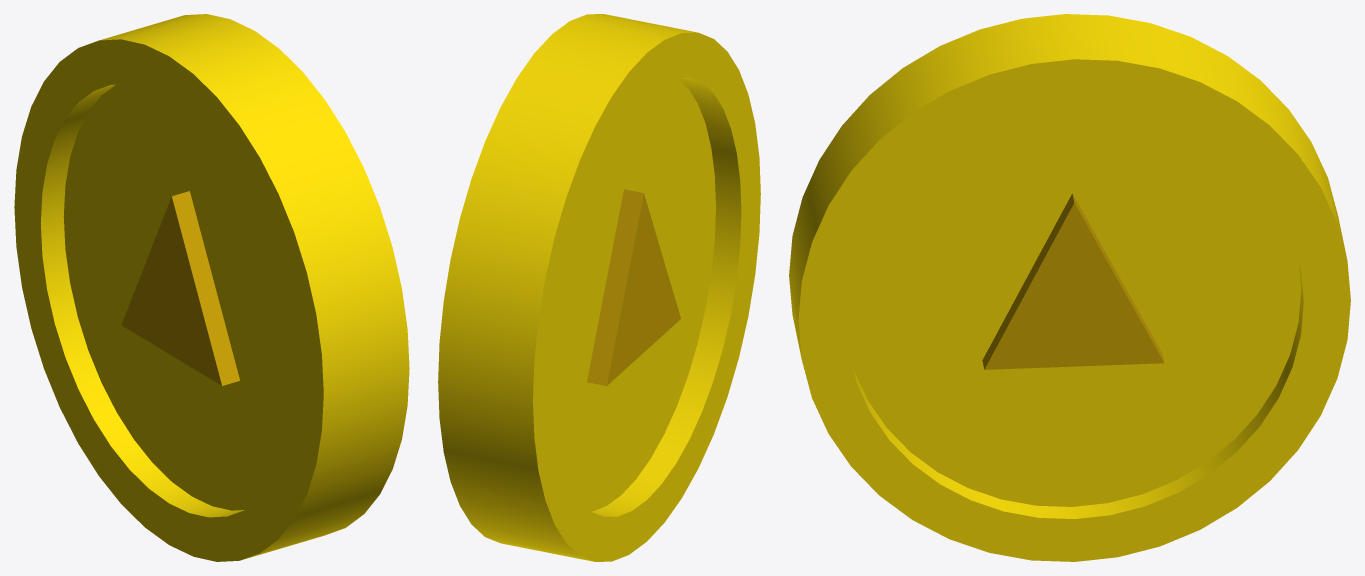
Rendered from coin.fbx.
The picture shows the model from 3 angles, left to right: view 1: azimuth 30°, elevation 25°; view 2: azimuth 150°, elevation 25°; view 3: azimuth 270°, elevation 25°; orthographic projection. The views are drawn at different scales.
Parts seen in each view (by area): view 1: coin; view 2: coin; view 3: coin.
Boxes of the visible parts, x1,y1,x2,y2 form: coin: [14, 14, 409, 561]; coin: [438, 14, 760, 561]; coin: [789, 14, 1350, 561].
Bounding box in the file's own units: 28.04 × 100 × 101.
